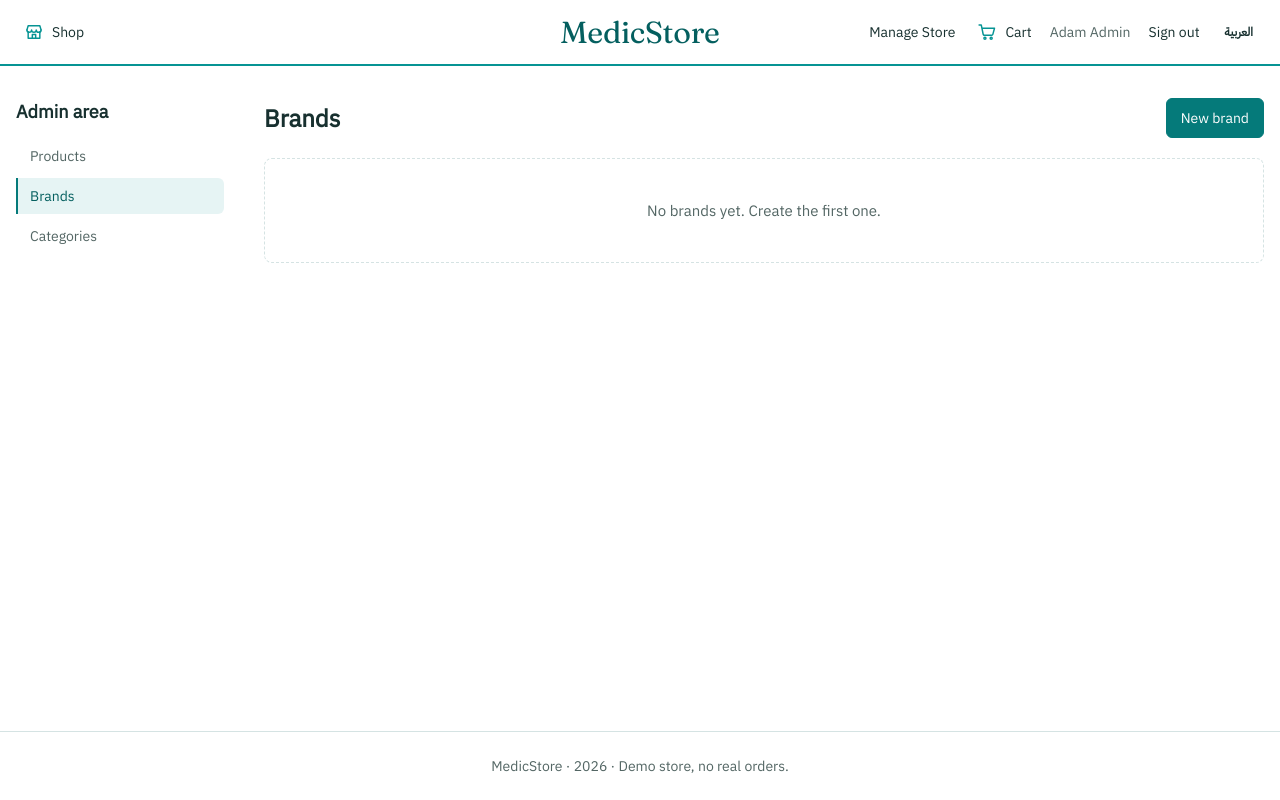
the Arabic hint disappears once Arabic text is typed
Click the button "New brand" at (1215, 118), box top-left (1166, 98), bottom-right (1264, 138)
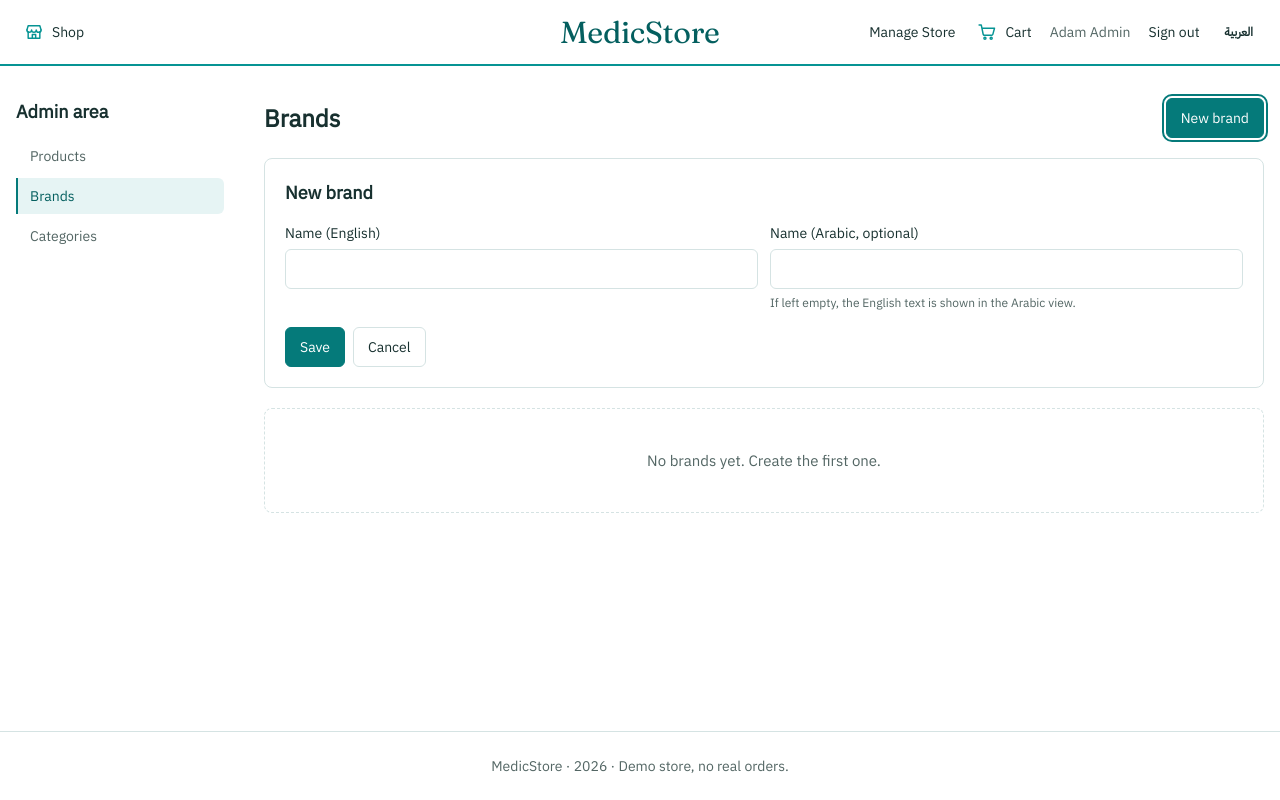
Check: the text "If left empty, the English text is shown in the Arabic view." is shown, box top-left (770, 295), bottom-right (1076, 310)
Type "أكمي" into the field labelled "Name (Arabic, optional)" at (1006, 269), box top-left (770, 249), bottom-right (1243, 289)
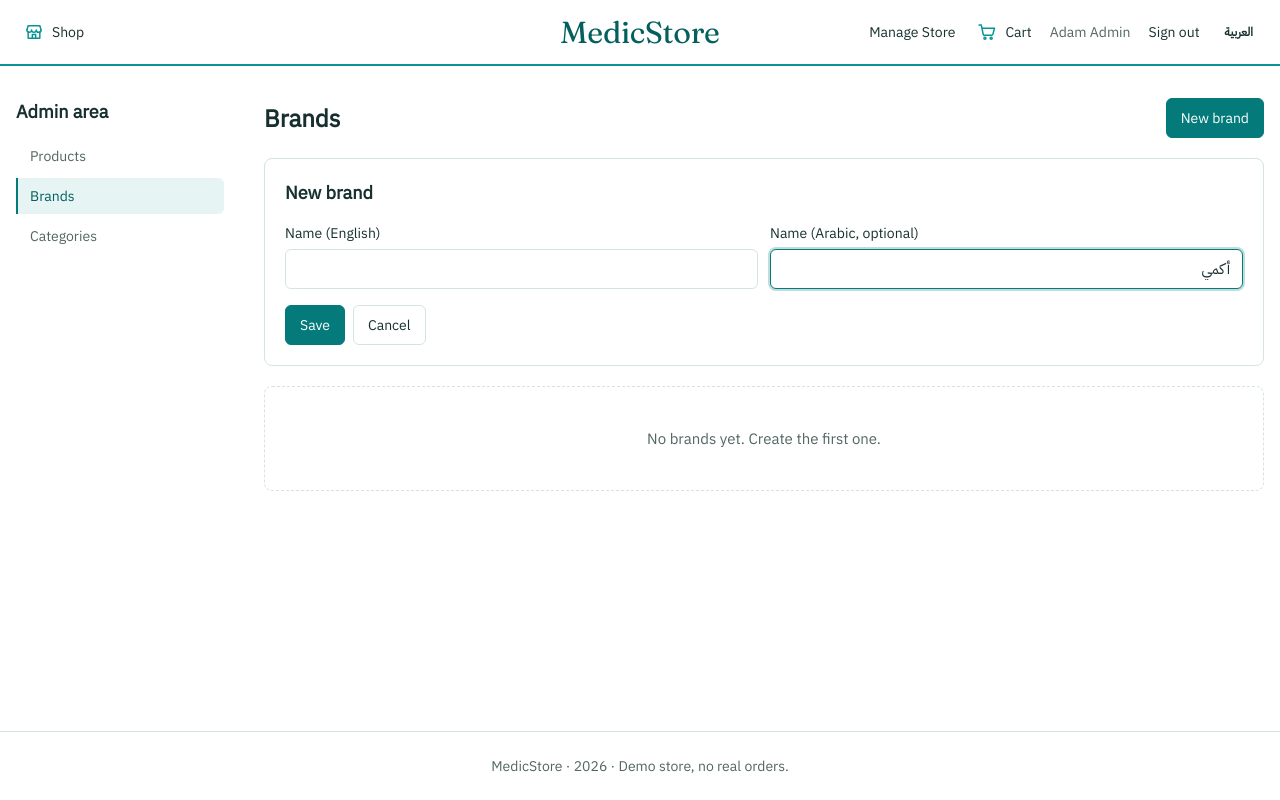
Check: the text "If left empty, the English text is shown in the Arabic view." is gone
